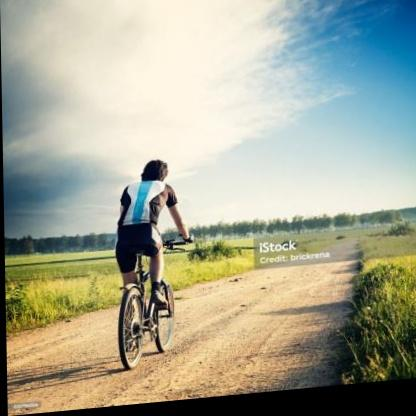Bicycle: (76, 226, 200, 376)
